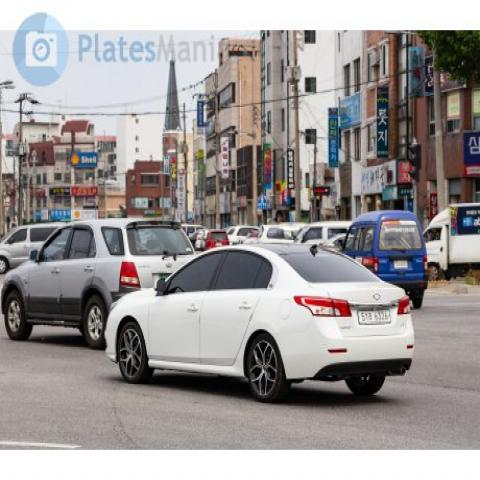LP: (350, 298, 395, 330)
